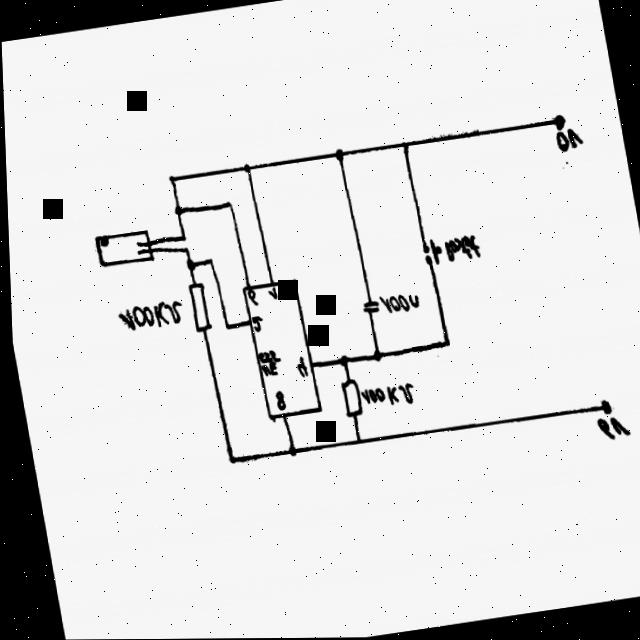capacitor: (360, 300, 378, 315)
junction: (336, 354, 347, 369), (333, 149, 344, 163), (284, 445, 294, 458), (184, 258, 194, 271), (241, 162, 251, 175), (370, 350, 380, 363), (172, 205, 182, 217), (167, 174, 175, 186), (205, 257, 213, 268), (441, 338, 449, 349), (225, 456, 233, 465), (222, 323, 230, 332), (225, 200, 232, 210), (179, 234, 186, 243), (401, 141, 408, 150), (182, 246, 188, 255), (353, 438, 359, 446)
resistor: (185, 282, 210, 334), (337, 379, 361, 422)
switch: (93, 228, 152, 270), (419, 239, 442, 267)
terminal: (551, 115, 566, 132), (597, 400, 610, 416)
text: (113, 299, 183, 333), (358, 383, 413, 410), (442, 235, 480, 263), (377, 291, 418, 316), (593, 417, 628, 442), (554, 128, 583, 154), (256, 350, 280, 378), (292, 357, 306, 379), (249, 315, 262, 333), (272, 391, 283, 412), (245, 290, 257, 308), (265, 287, 276, 301)
